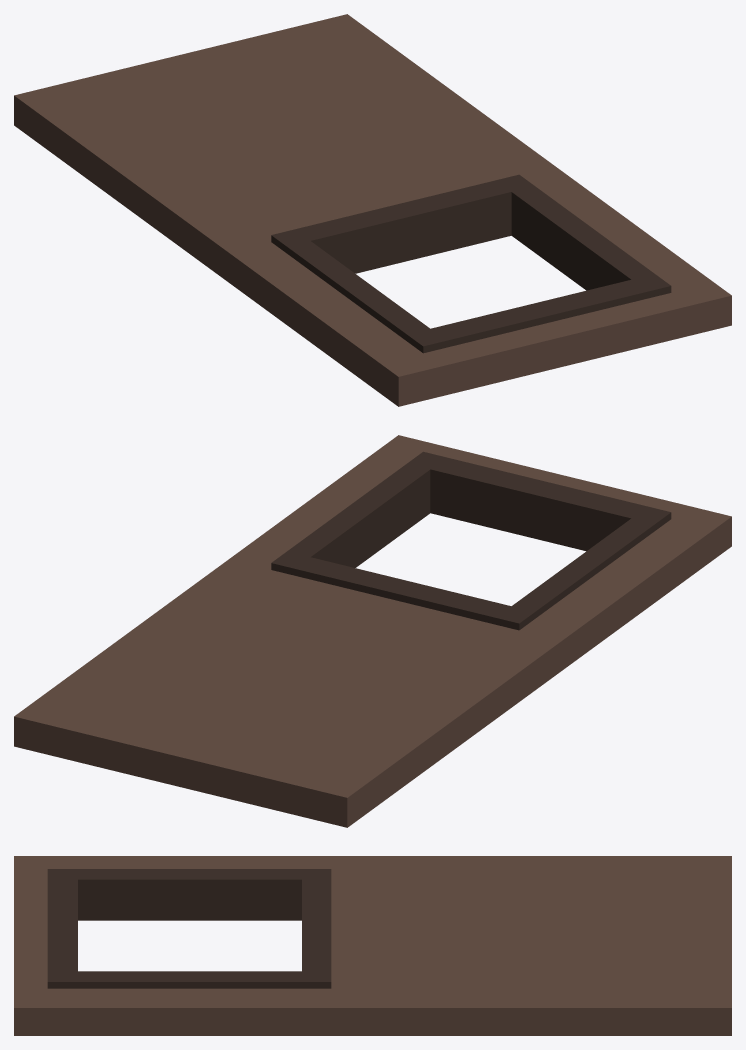
The model's file is Door_2.obj.
3 views of the same model, one above another, from view 1: azimuth 30°, elevation 25°; view 2: azimuth 150°, elevation 25°; view 3: azimuth 270°, elevation 25° (orthographic). The views are drawn at different scales.
Visible parts, largest first — view 1: Door_2; view 2: Door_2; view 3: Door_2.
Part boxes in pixels (bbox=[...]): Door_2: bbox=[14, 14, 731, 406]; Door_2: bbox=[14, 435, 731, 827]; Door_2: bbox=[14, 856, 731, 1035].
Bounding box in the file's own units: 1.01 × 0.1274 × 2.02.
